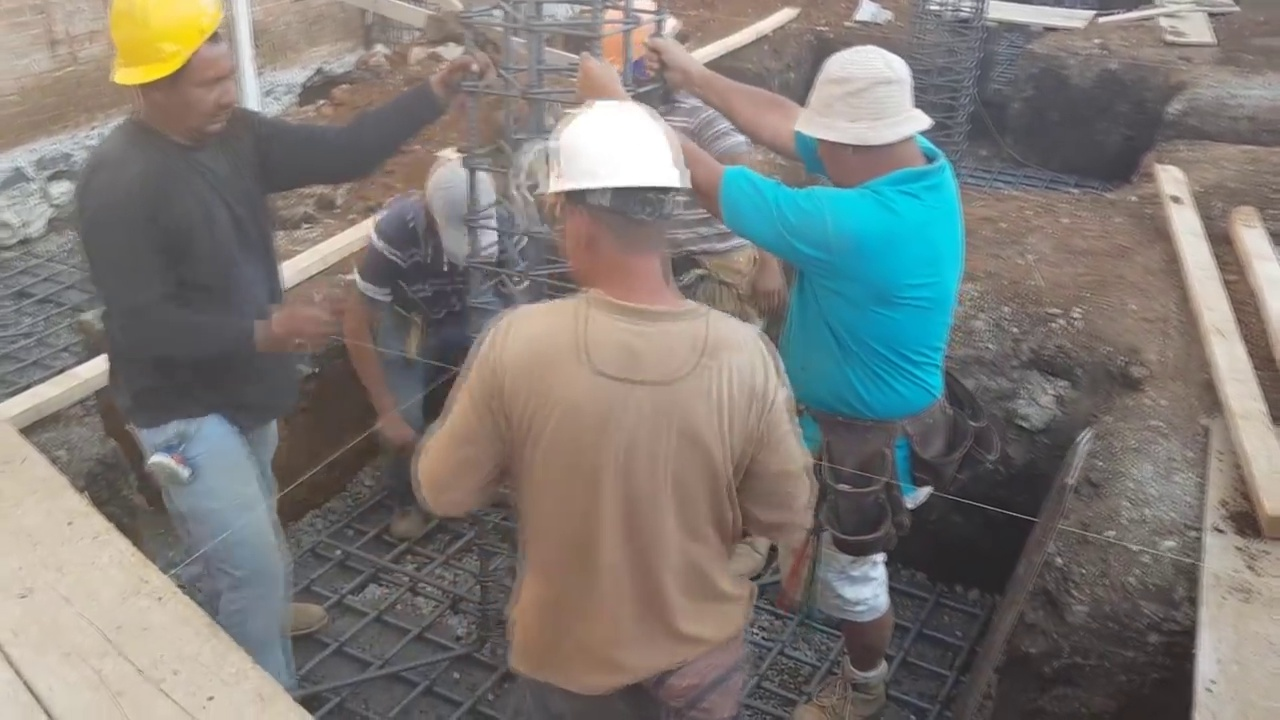helmet: (534, 105, 690, 195), (97, 6, 229, 90), (586, 4, 682, 75), (850, 7, 895, 31)
helmet-off: (796, 52, 942, 188), (418, 155, 515, 275)
helmet-on: (547, 89, 715, 323), (101, 2, 241, 139), (581, 2, 684, 110)
person: (438, 93, 846, 717), (689, 33, 994, 700), (106, 0, 382, 672), (344, 146, 534, 534)
